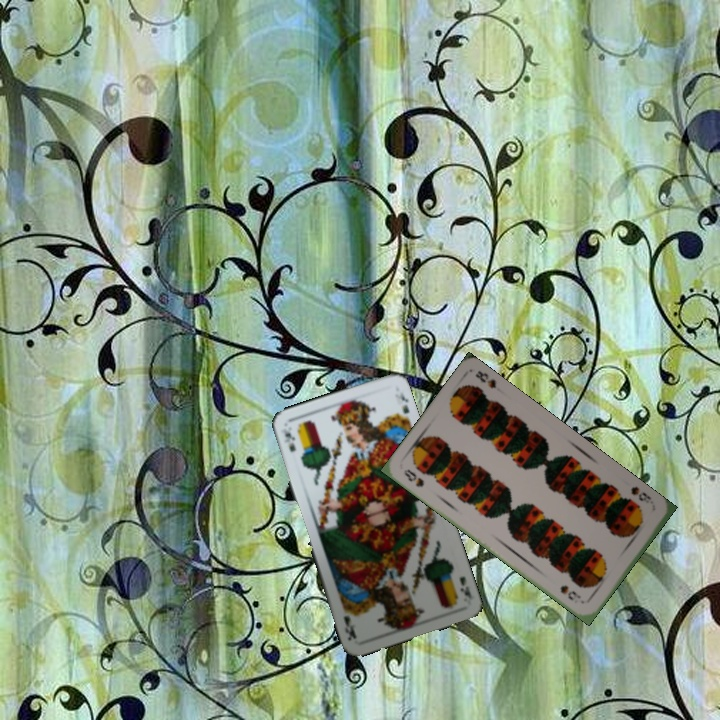EK: (455, 572, 474, 603), (280, 427, 299, 454)
S8: (400, 465, 427, 490), (627, 482, 654, 506)
